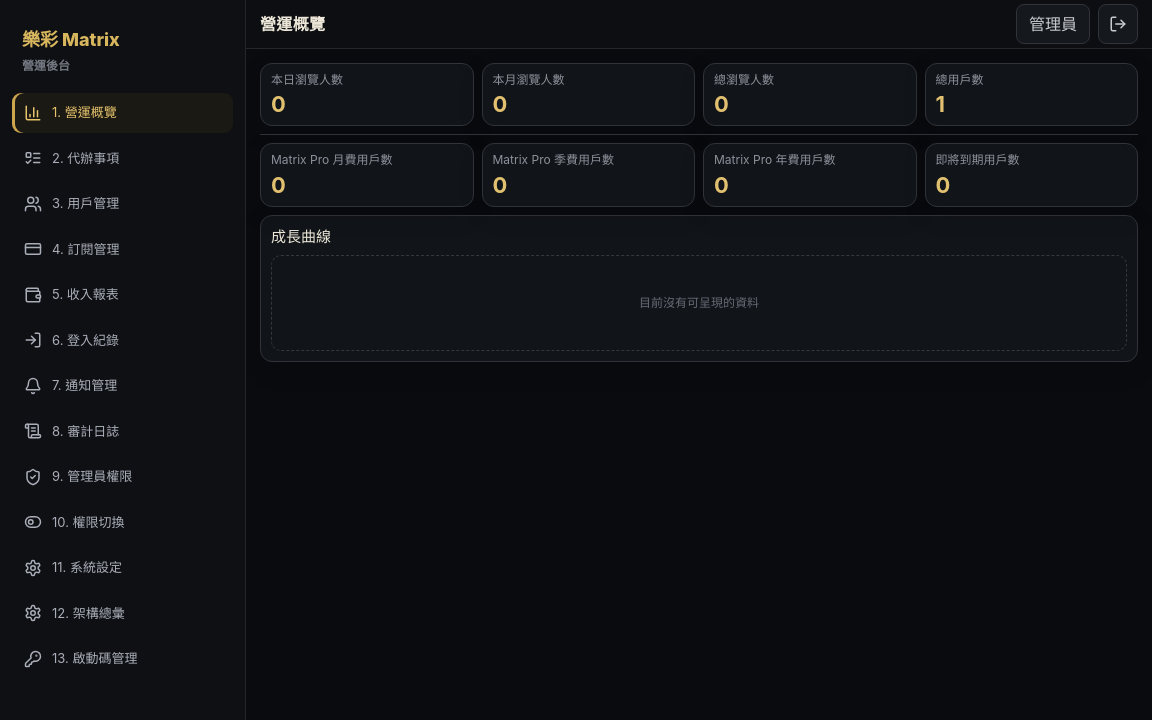
Test: subscription expiry save recovery › prevents duplicate submissions and draft changes while a save is in progress
Click the button "4. 訂閱管理" at (122, 249), box [12,230,233,269]
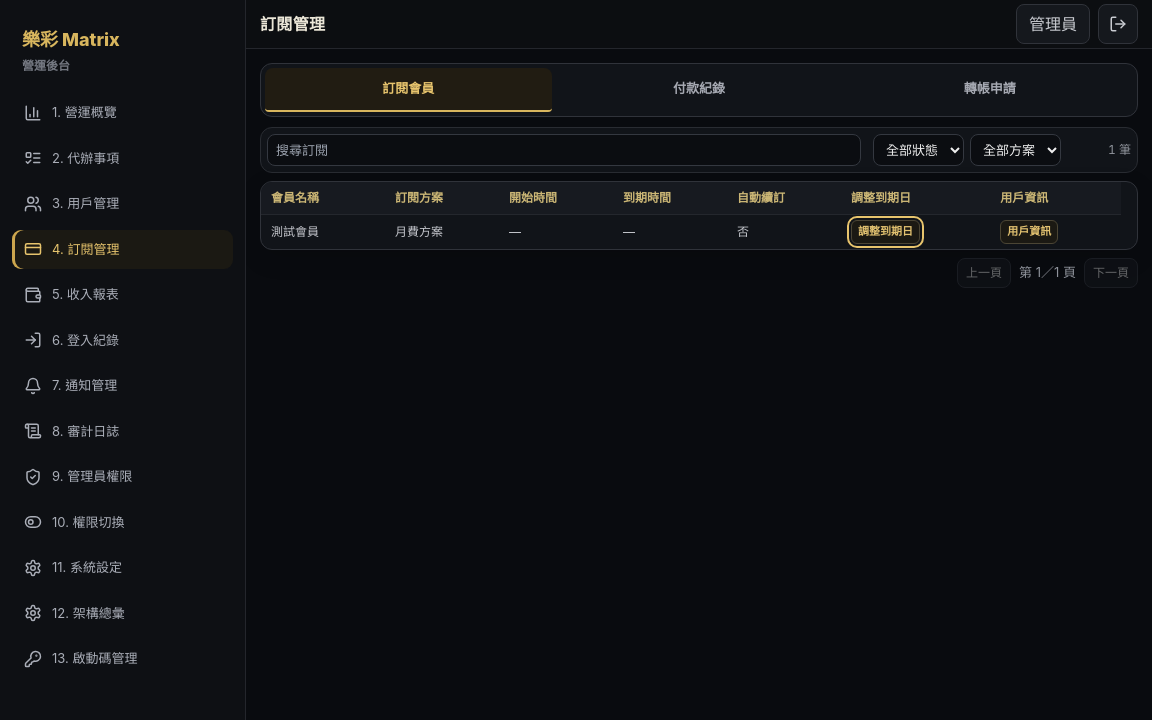
Click the button "調整到期日" at (886, 232), box [851,220,920,244]
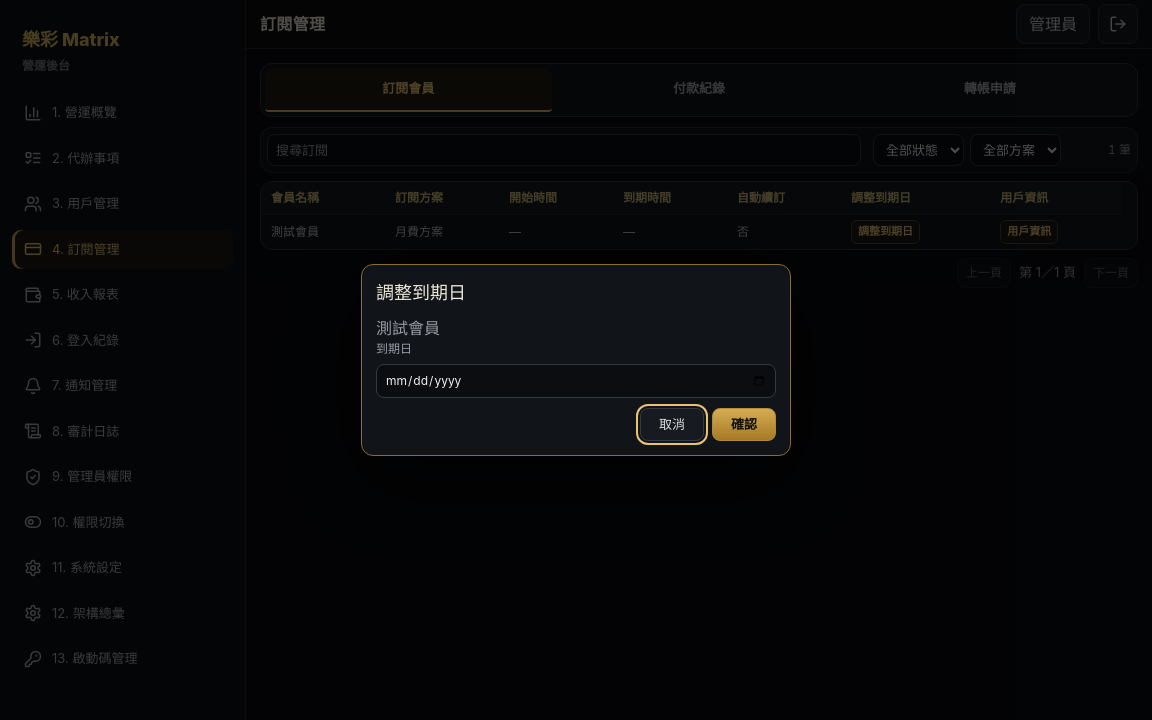
Type "2026-09-11" into the date field labelled "到期日" at (576, 381), box [376,364,776,398]
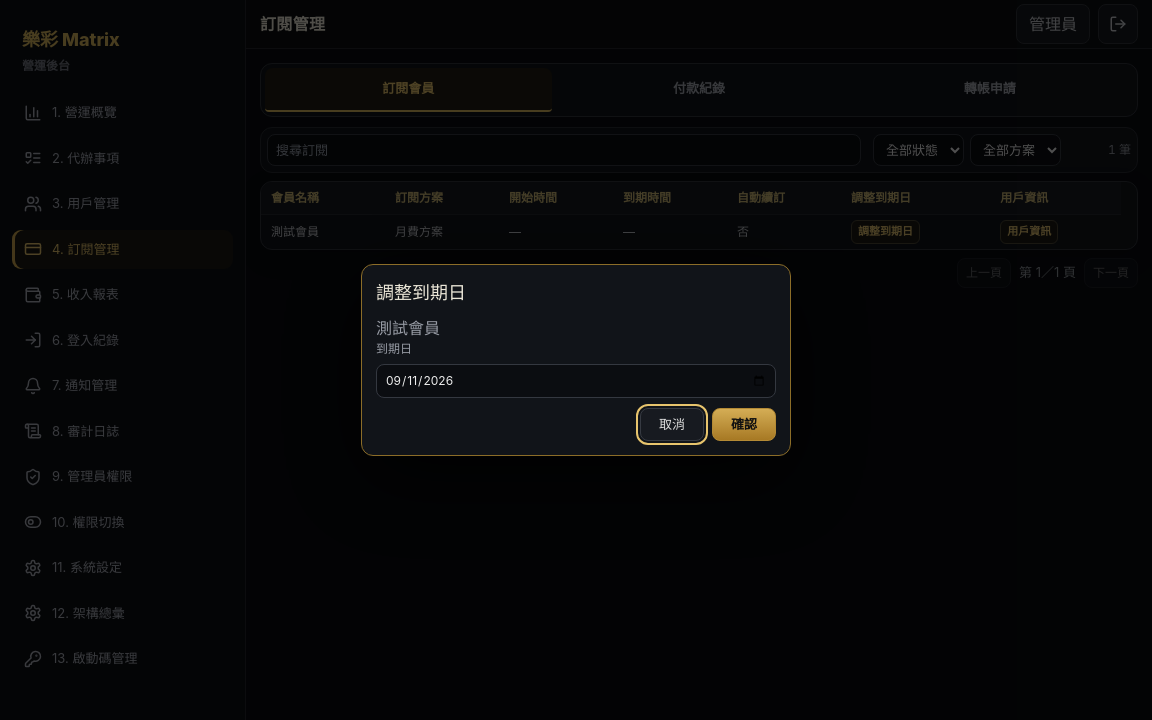
Click the button "確認" at (744, 425), box [712,408,776,441]
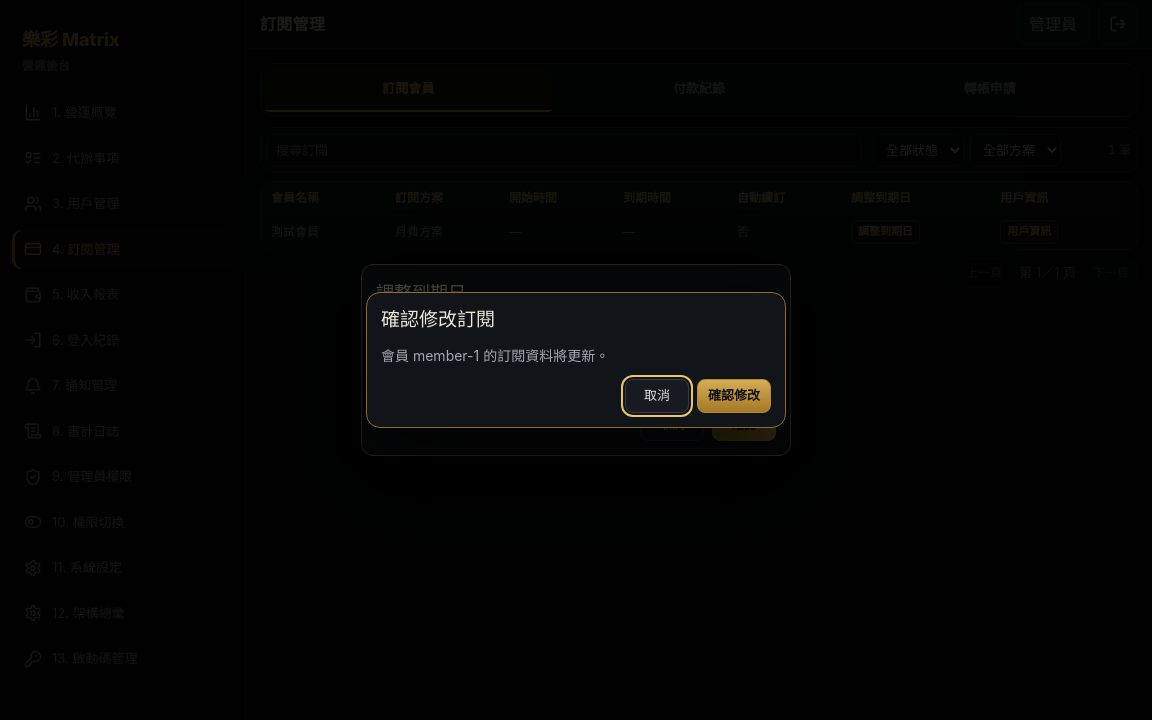
Click the button "確認修改" at (734, 396), box [697,379,771,413]
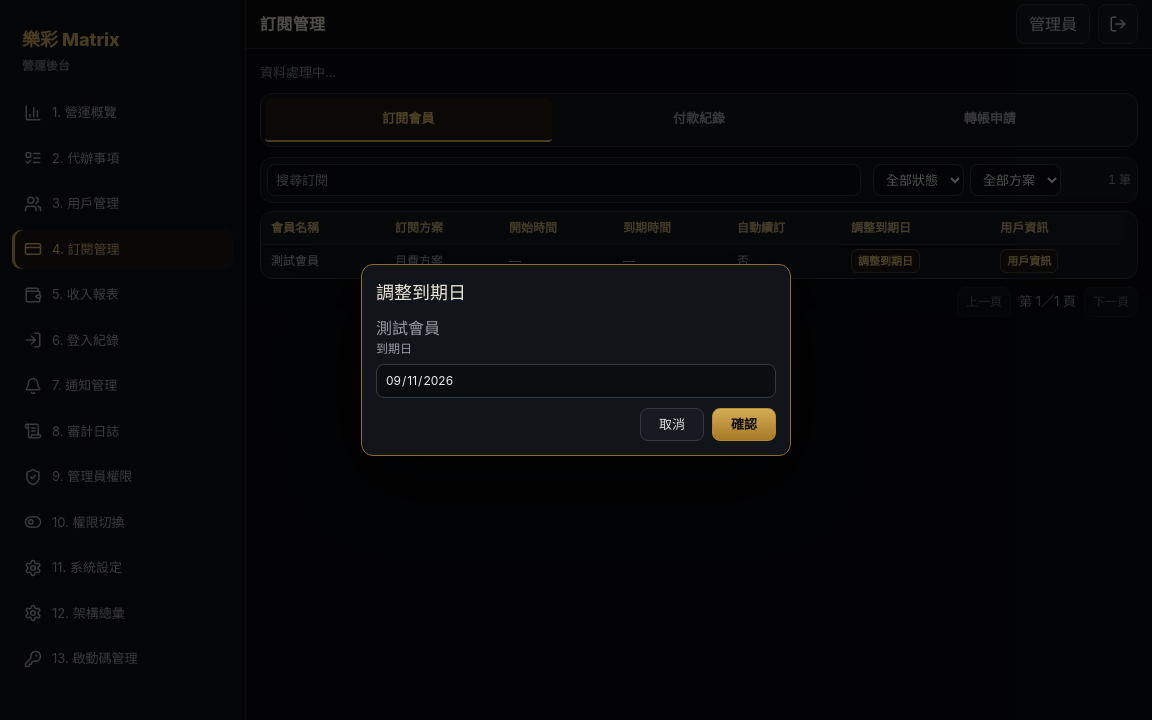
Expected: the button "確認" is disabled
Expected: the date field labelled "到期日" is disabled, [376,364,776,398]
Expected: the button "取消" is disabled, [640,408,704,441]
Click the button "確認" at (744, 425), box [712,408,776,441]
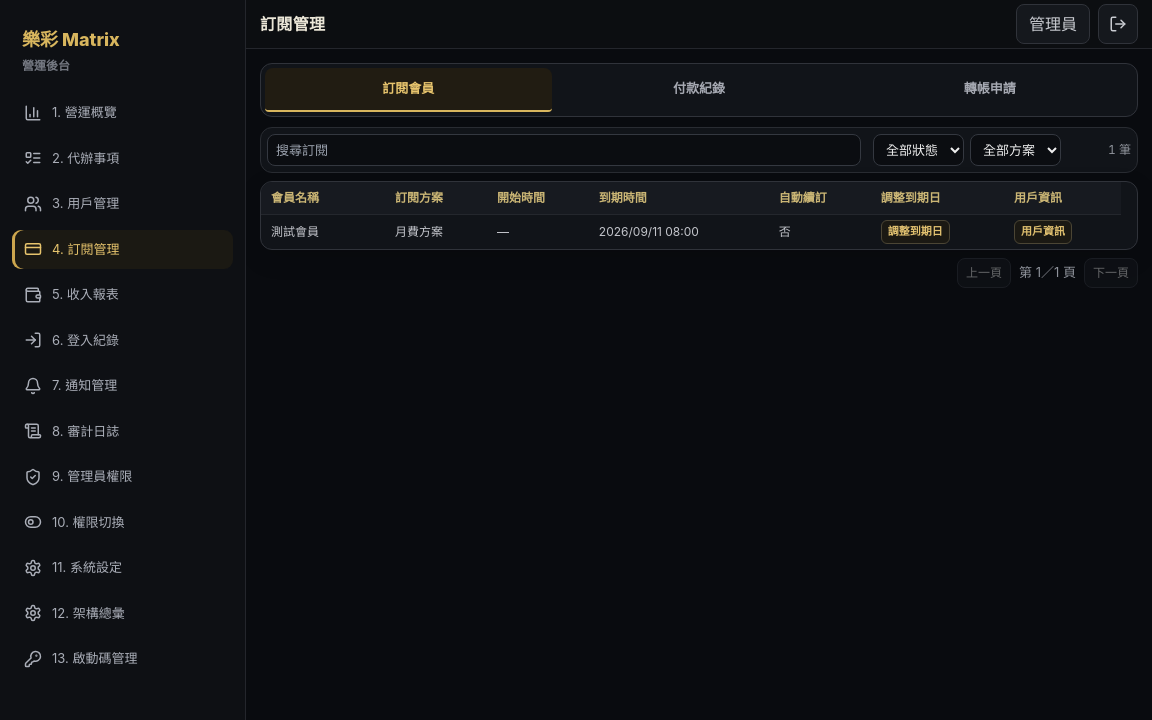
Expected: the dialog is gone
Expected: the text "2026/09/11 08:00" is shown, [589,214,769,248]
